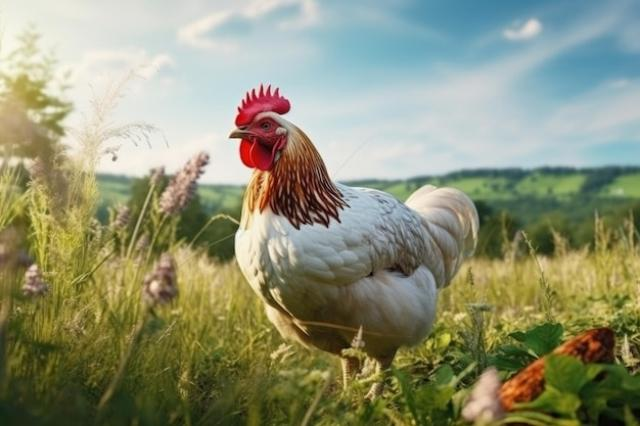Chicken: (227, 85, 480, 400)
